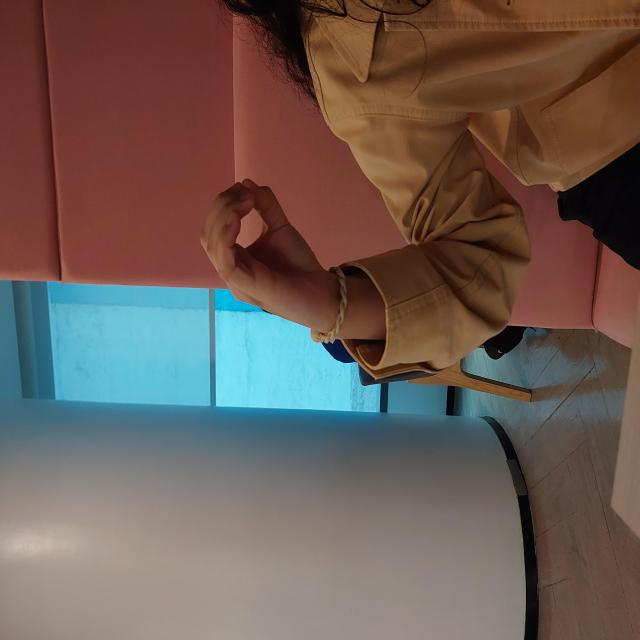O: (299, 196, 471, 339)
